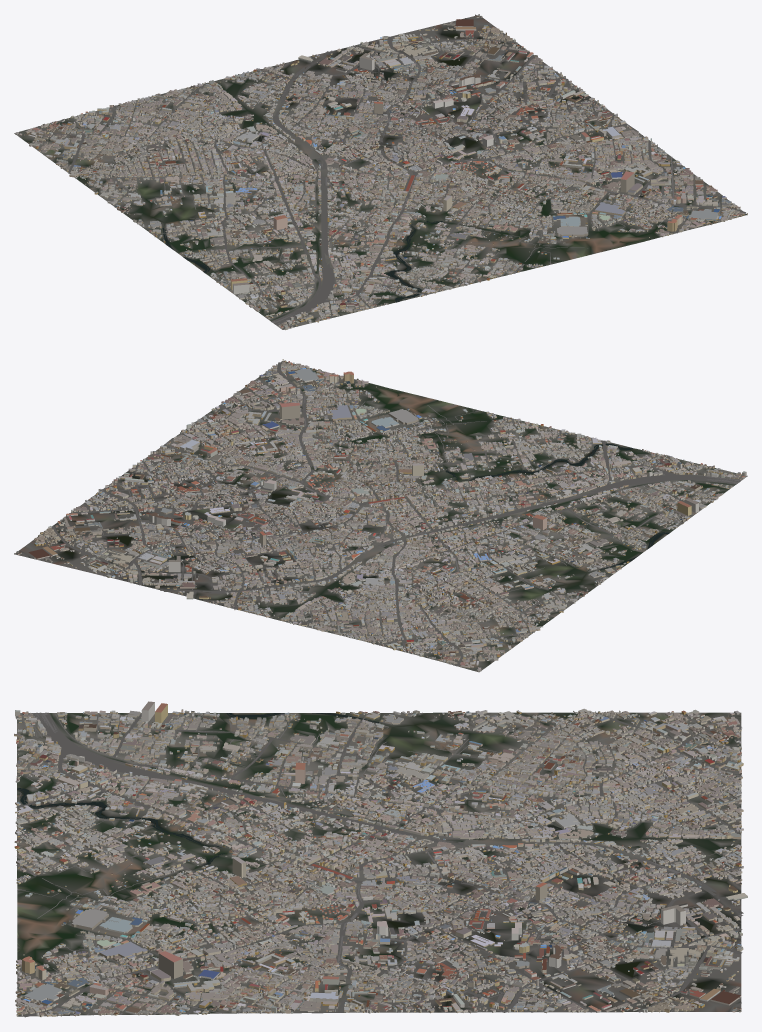
3 views of the same model, one above another, from view 1: azimuth 30°, elevation 25°; view 2: azimuth 150°, elevation 25°; view 3: azimuth 270°, elevation 25° (orthographic). The views are drawn at different scales.
Visible parts, largest first — view 1: buildings, ground, roads, water; view 2: buildings, ground, roads, water; view 3: buildings, ground, roads, water.
Part boxes in pixels (bbox=[...]): buildings: bbox=[15, 14, 747, 330]; ground: bbox=[14, 15, 746, 329]; roads: bbox=[35, 15, 745, 329]; water: bbox=[162, 82, 643, 302]; buildings: bbox=[14, 359, 746, 671]; ground: bbox=[14, 361, 747, 672]; roads: bbox=[15, 362, 747, 666]; water: bbox=[142, 407, 669, 578]; buildings: bbox=[14, 701, 747, 1016]; ground: bbox=[17, 712, 741, 1016]; roads: bbox=[16, 712, 743, 1017]; water: bbox=[17, 713, 562, 976].
Size of the model in its own units: 2826 by 90.45 by 2839.
